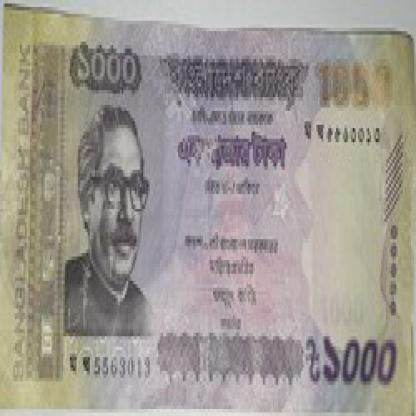One Thousand taka: (303, 326, 399, 392), (313, 56, 394, 114), (70, 38, 143, 101)
